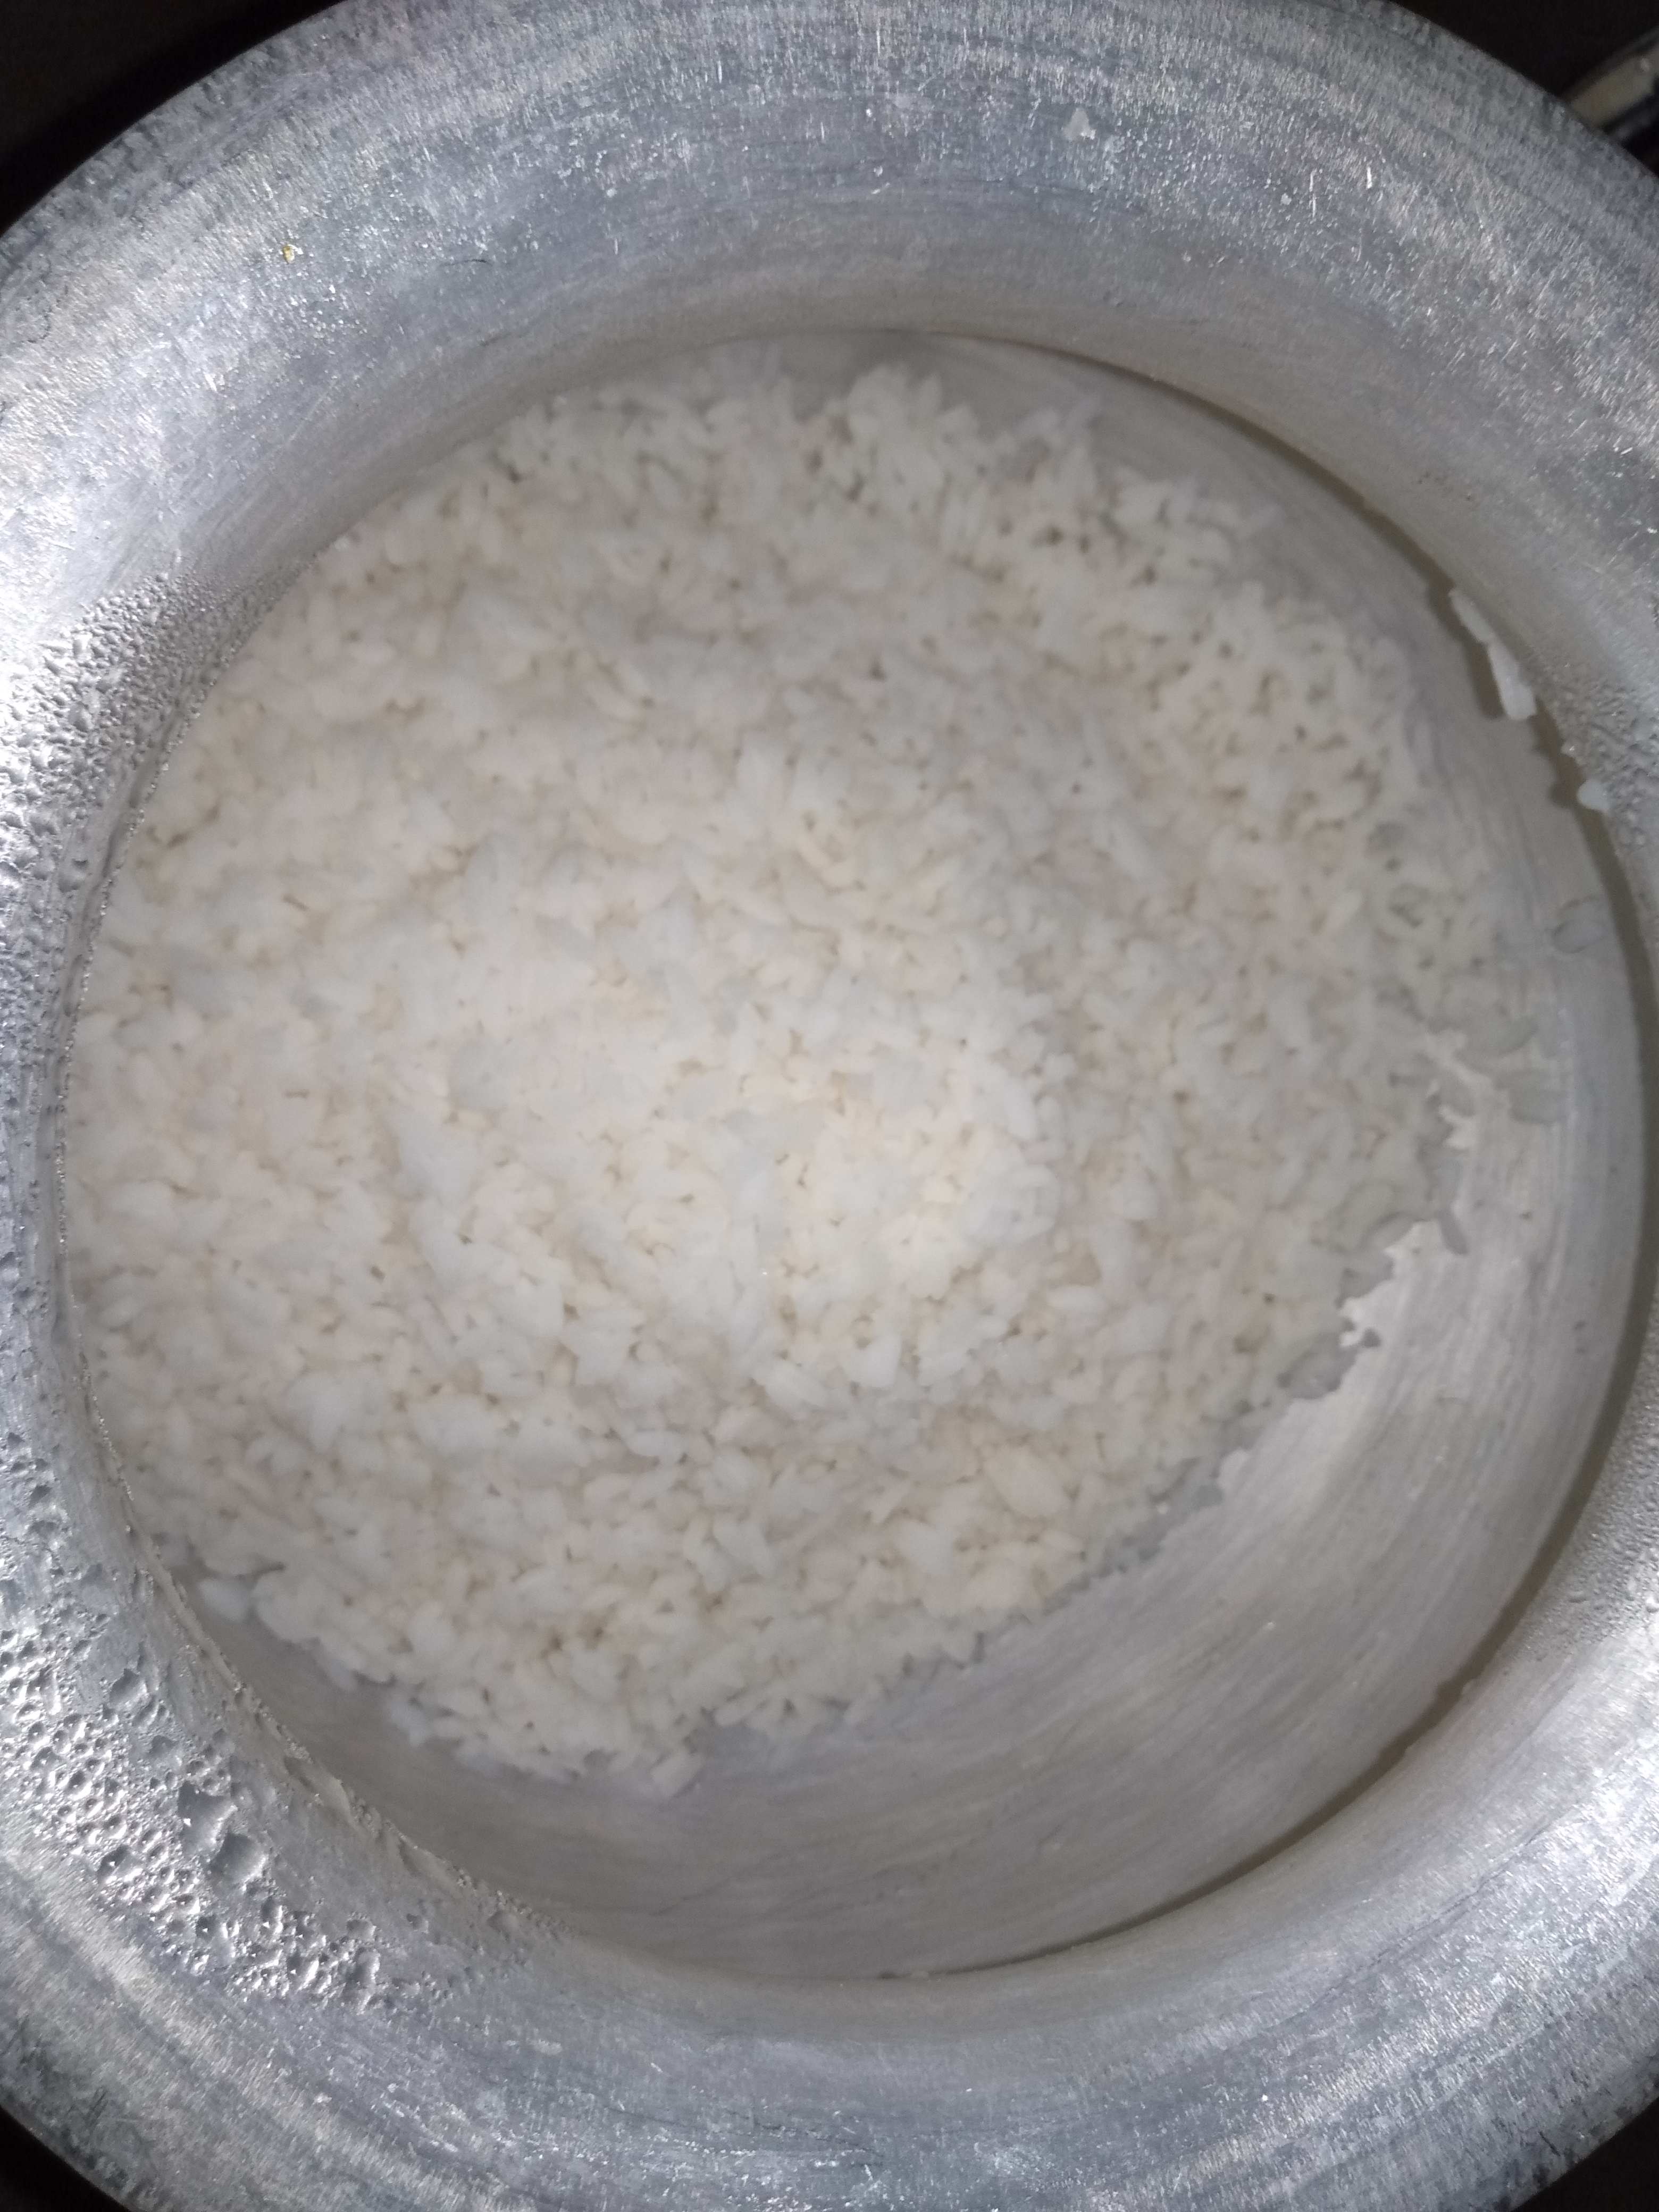food: (56, 327, 1615, 1808)
